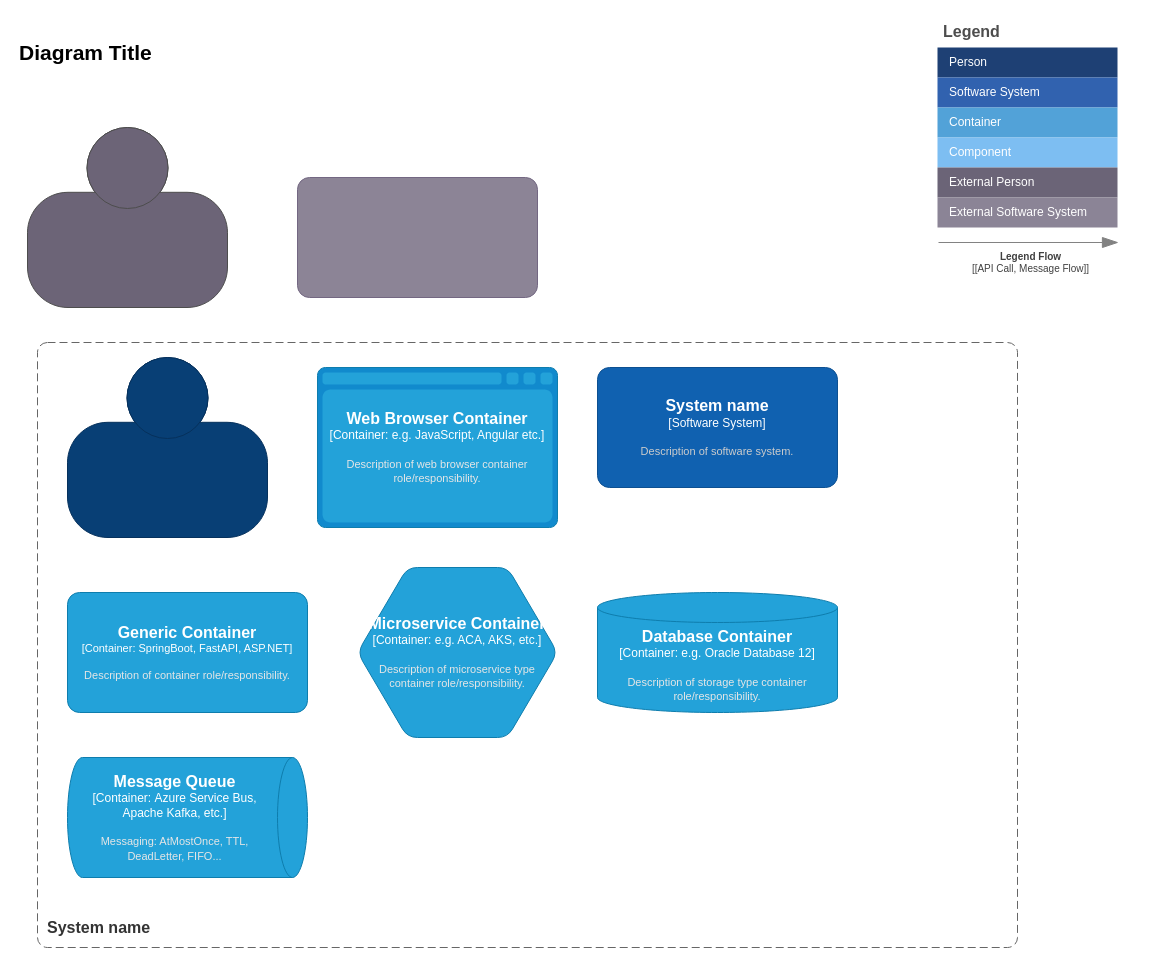
Image size: 1152x965. Some labels were removed from this diagram. Here are the shapes that lost their labels. From the top down, the box of each, then its label:
(26, 126, 228, 308): External person name [Person] Description of external person.
(296, 176, 538, 298): External system name [Software System] Description of external software system.
(66, 356, 268, 538): Person name [Person] Description of person.
